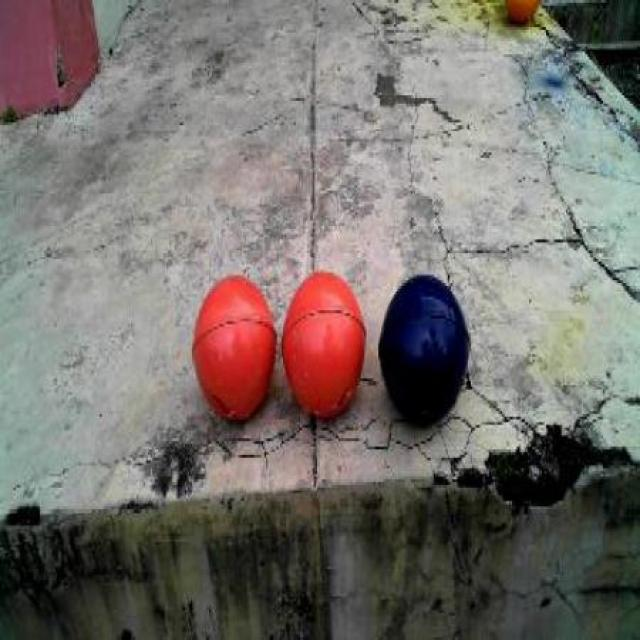buoy: (373, 266, 476, 434), (187, 264, 281, 430), (279, 264, 370, 424)
